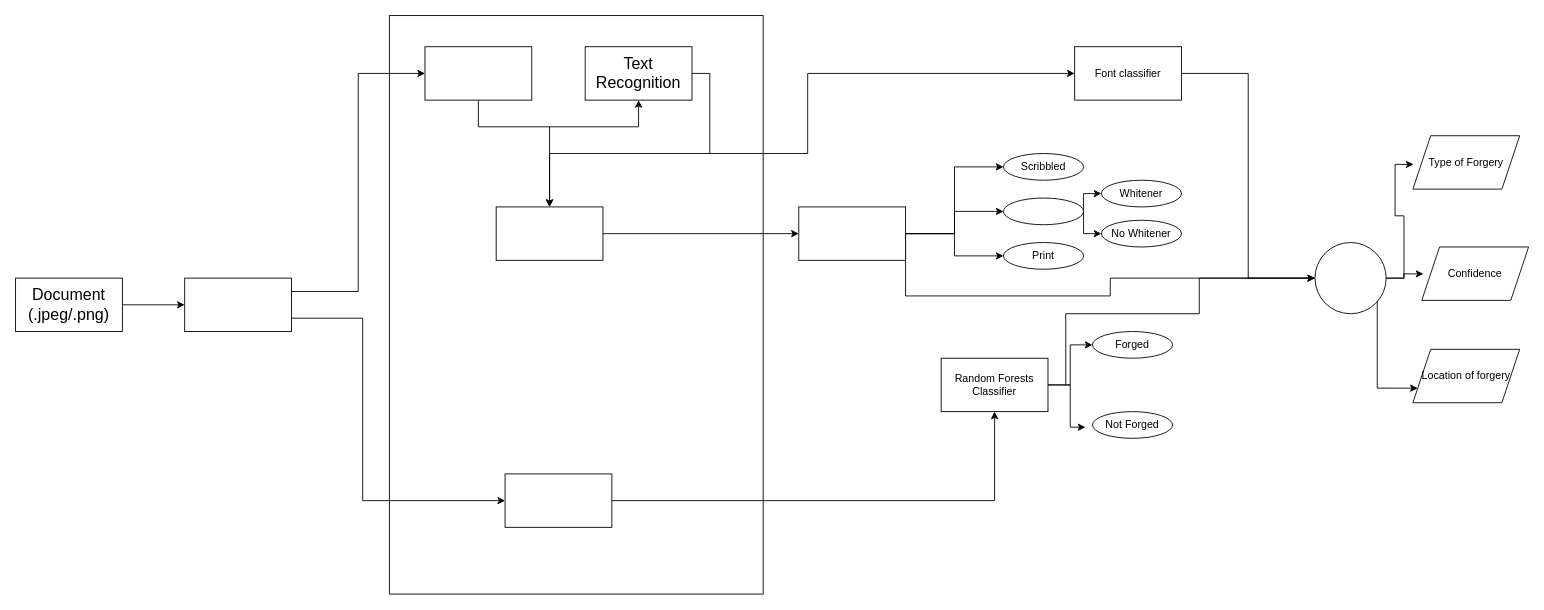
The diagram is 1544 pixels wide and 610 high, and some of its shapes have lost their labels. Here are the shapes that lost their labels. From the top down, the box of each, then its label:
(424, 46, 532, 100): Text Detection
(1003, 197, 1084, 225): Overwritten
(495, 206, 603, 260): feature extractor
(798, 206, 906, 260): Decision Tree Model
(1314, 242, 1386, 314): Ensemble Machine Learning Model
(184, 277, 291, 332): Preprocessing
(504, 473, 612, 527): ELA feature extractor
